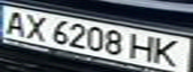0: (84, 25, 106, 53)
2: (66, 20, 87, 51)
6: (45, 17, 72, 46)
8: (103, 27, 130, 57)
A: (0, 8, 30, 36)
H: (127, 33, 160, 62)
K: (148, 36, 187, 68)
X: (21, 11, 51, 42)
